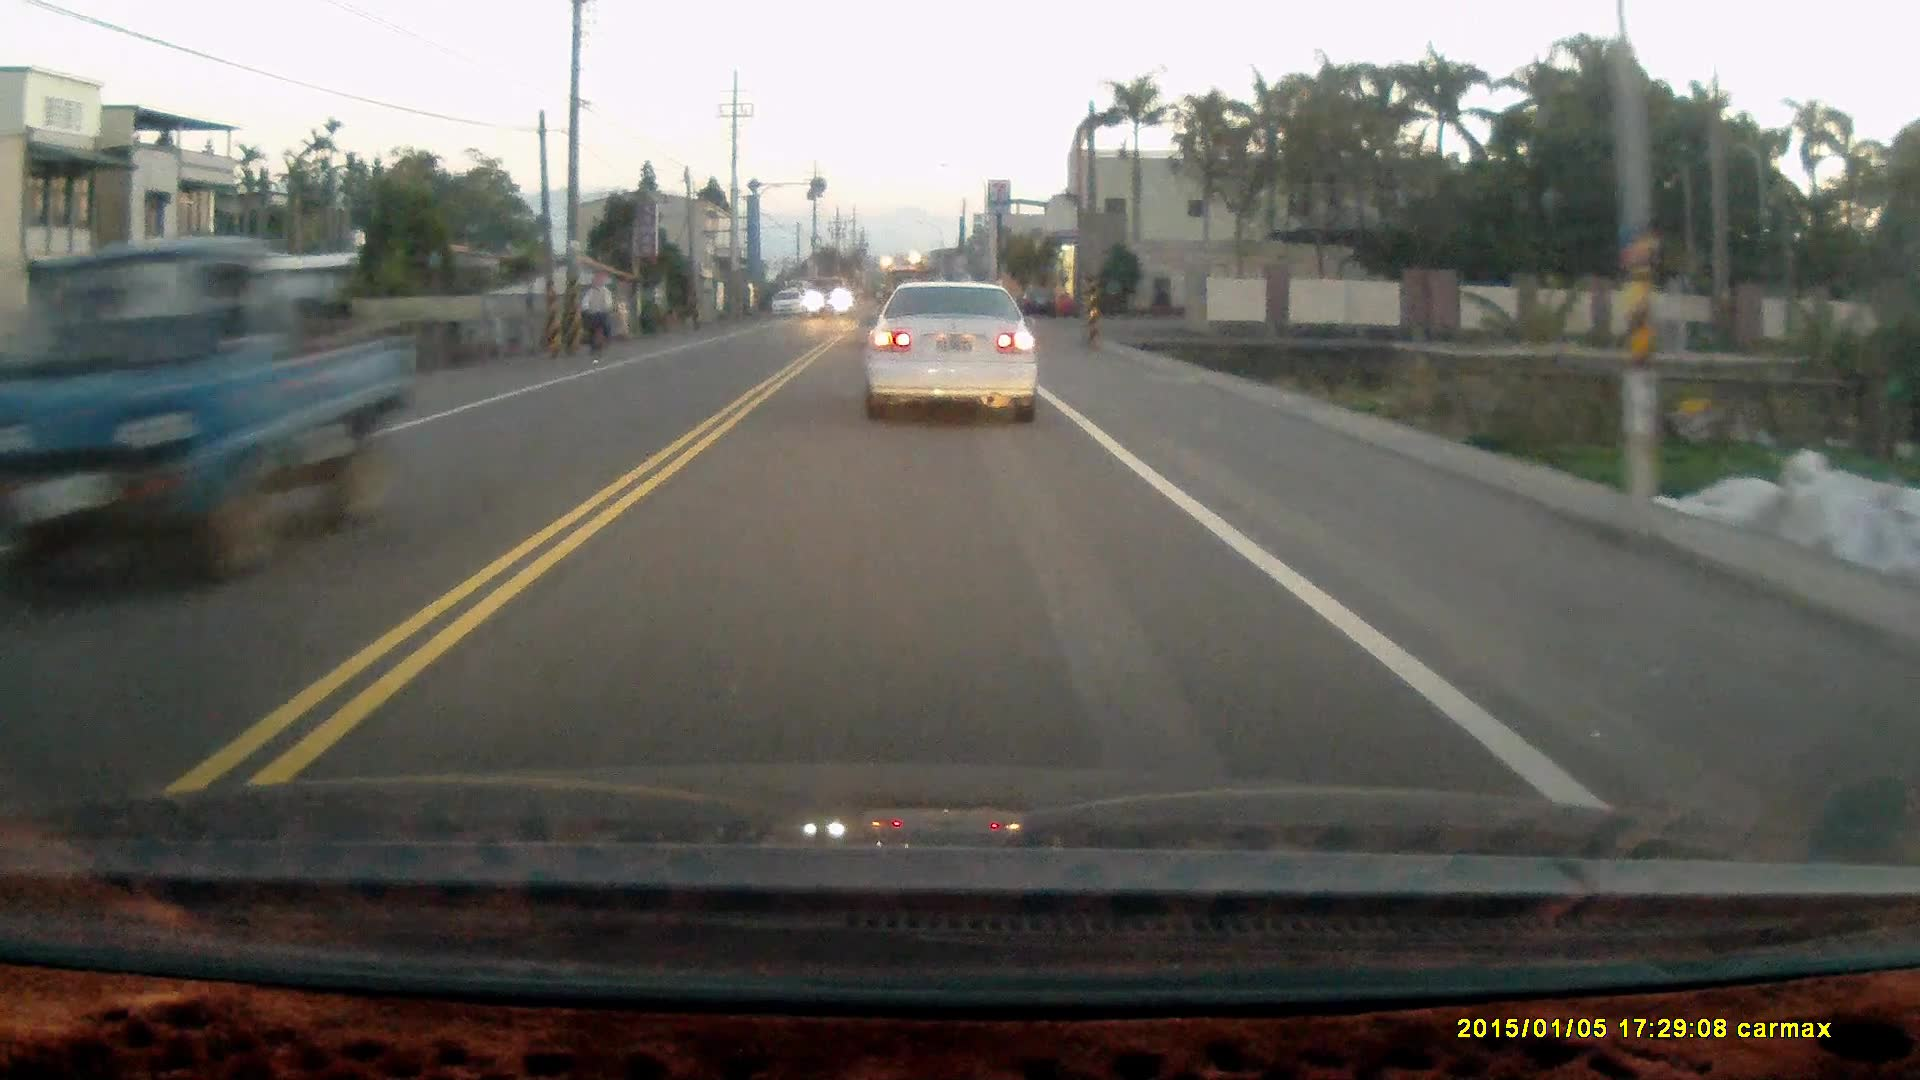rider: (577, 270, 613, 365)
vehicle: (1, 238, 417, 600), (861, 279, 1038, 422), (802, 275, 851, 320), (1019, 278, 1061, 313), (772, 290, 806, 318)
